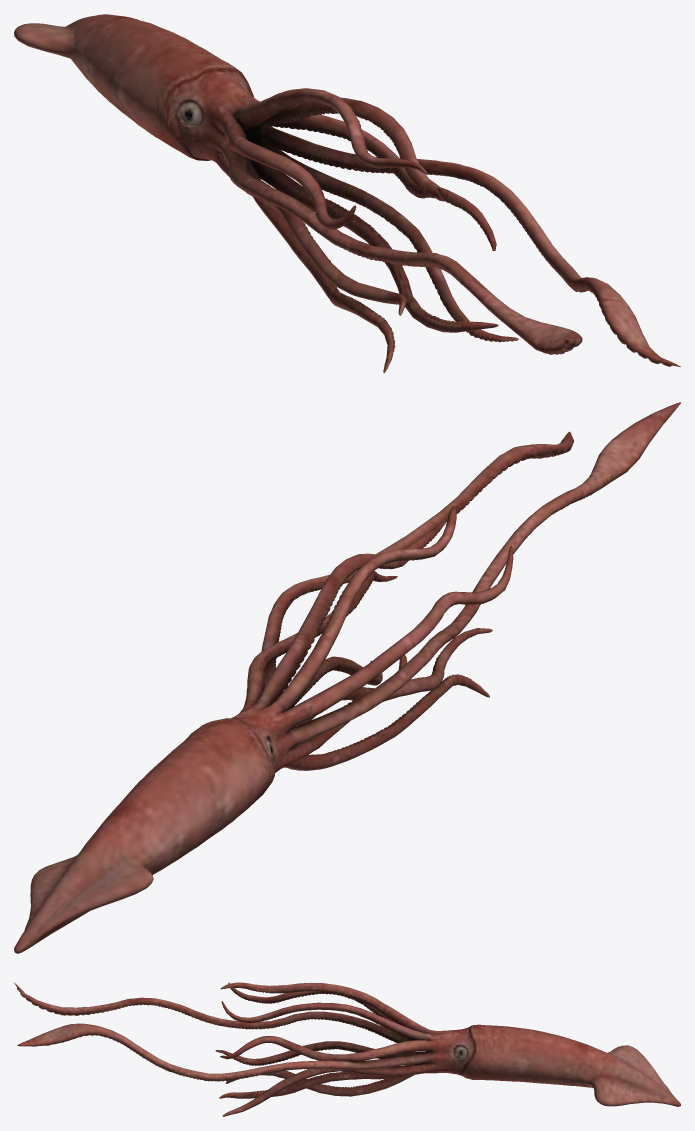
The model's file is MZ4250 - Squid_2025.glb.
The picture shows the model from 3 angles, top to bottom: view 1: azimuth 30°, elevation 25°; view 2: azimuth 150°, elevation 25°; view 3: azimuth 270°, elevation 25°; orthographic projection. The views are drawn at different scales.
Parts seen in each view (by area): view 1: ORGANIC BASE SPHERE.001; view 2: ORGANIC BASE SPHERE.001; view 3: ORGANIC BASE SPHERE.001.
Part boxes in pixels (x1,y1,x2,y2): ORGANIC BASE SPHERE.001: (14,14,680,373); ORGANIC BASE SPHERE.001: (14,402,680,953); ORGANIC BASE SPHERE.001: (14,982,680,1116).
Size of the model in its own units: 88.48 by 82.7 by 451.
Materials: 1 (1 with a texture image).
